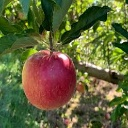apple: (21, 50, 77, 112)
